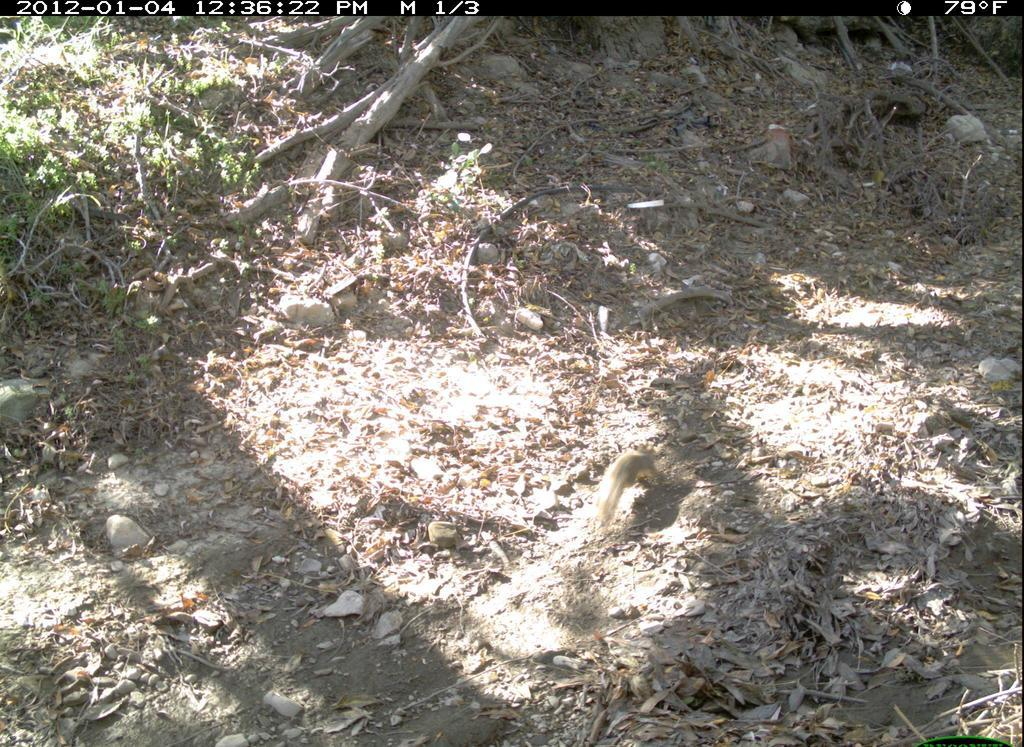squirrel: (589, 438, 678, 543)
